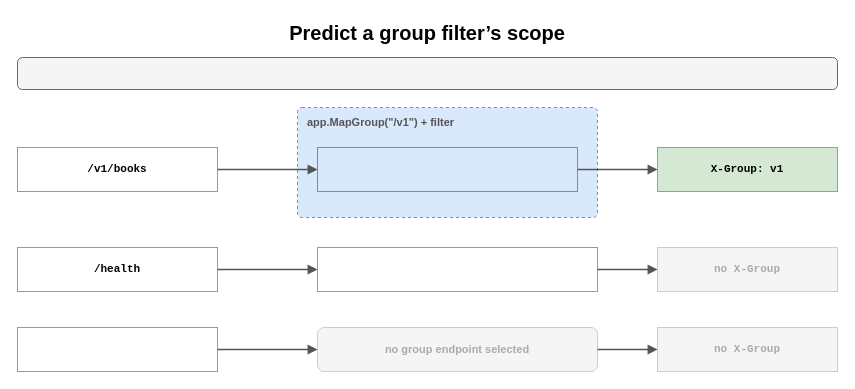
Some shapes in this 855 by 389 pixel diagram are drawn without their labels. Here are the shapes that lost their labels. From the top down, the centre of each, then its label:
[427,73]: A group filter runs only for endpoints selected inside that group
[447,169]: v1.MapGet("/books")
[457,269]: app.MapGet("/health")
[117,349]: /v1/unknown
